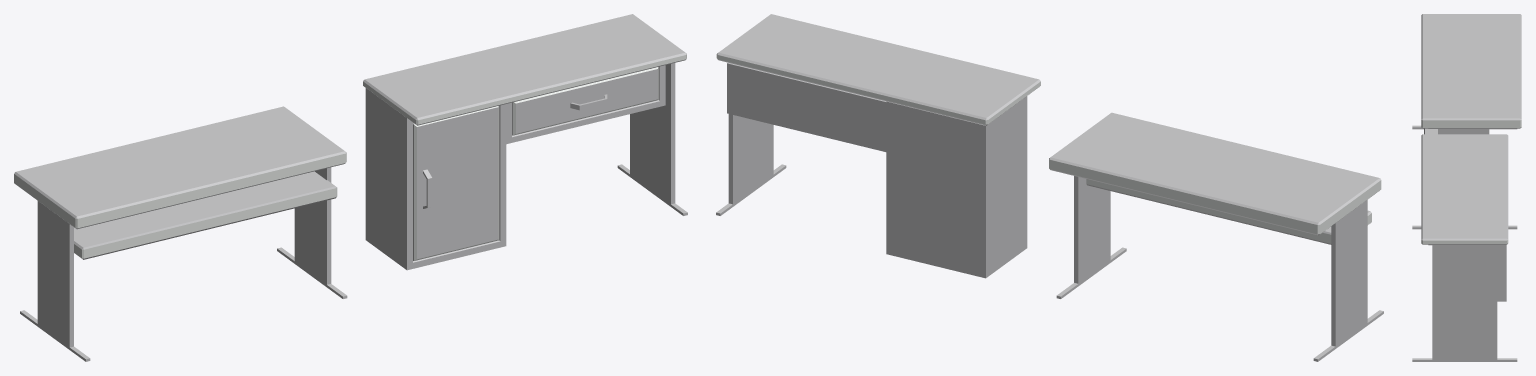
File: Chem.fbx
3 views of the same model, side by side, from view 1: azimuth 30°, elevation 25°; view 2: azimuth 150°, elevation 25°; view 3: azimuth 270°, elevation 25° (orthographic). The views are drawn at different scales.
Parts seen in each view (by area): view 1: Teacher_Chem, Desk_Chem; view 2: Teacher_Chem, Desk_Chem; view 3: Teacher_Chem, Desk_Chem.
Boxes of the visible parts, x1,y1,x2,y2 form: Teacher_Chem: (363,14,687,270); Desk_Chem: (14,106,347,361); Teacher_Chem: (716,14,1040,278); Desk_Chem: (1049,112,1383,361); Teacher_Chem: (1412,134,1517,361); Desk_Chem: (1412,14,1521,229).
Bounding box in the file's own units: 360 × 90.48 × 70.03.
Materials: 1 (1 with a texture image).
